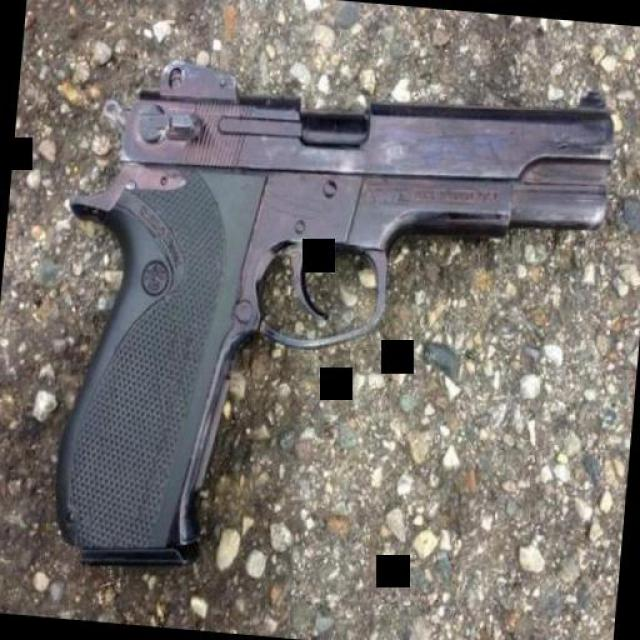gun: (30, 31, 622, 610)
